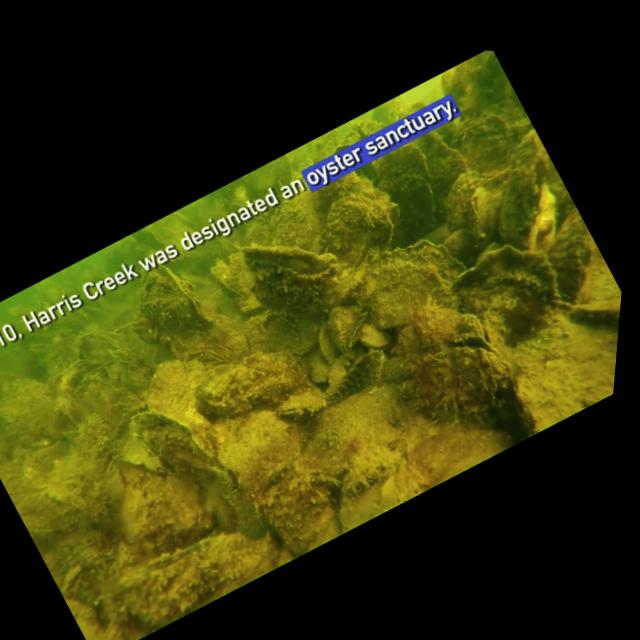Oyster-Closed: (115, 247, 221, 359), (445, 177, 515, 251)
Oyster-Indeterminate: (97, 487, 294, 640), (380, 311, 550, 483), (329, 209, 481, 352), (433, 217, 574, 352), (117, 384, 234, 511), (206, 390, 319, 503), (300, 173, 409, 279), (125, 338, 219, 430), (182, 346, 275, 436), (284, 151, 377, 233), (370, 118, 454, 204), (498, 178, 579, 263), (95, 474, 176, 557), (422, 160, 502, 237), (490, 117, 564, 198), (308, 289, 380, 369), (65, 356, 139, 433), (556, 275, 622, 359), (0, 364, 67, 444), (381, 164, 448, 239), (68, 314, 131, 378), (428, 211, 490, 272), (92, 458, 139, 509), (107, 336, 153, 385), (45, 350, 95, 395), (306, 315, 350, 365), (350, 315, 395, 360), (297, 345, 340, 391), (78, 483, 118, 528)
Oyster-Open: (224, 202, 361, 341), (429, 45, 525, 137), (272, 374, 332, 431), (292, 456, 352, 513), (180, 331, 234, 384), (51, 555, 98, 601)
